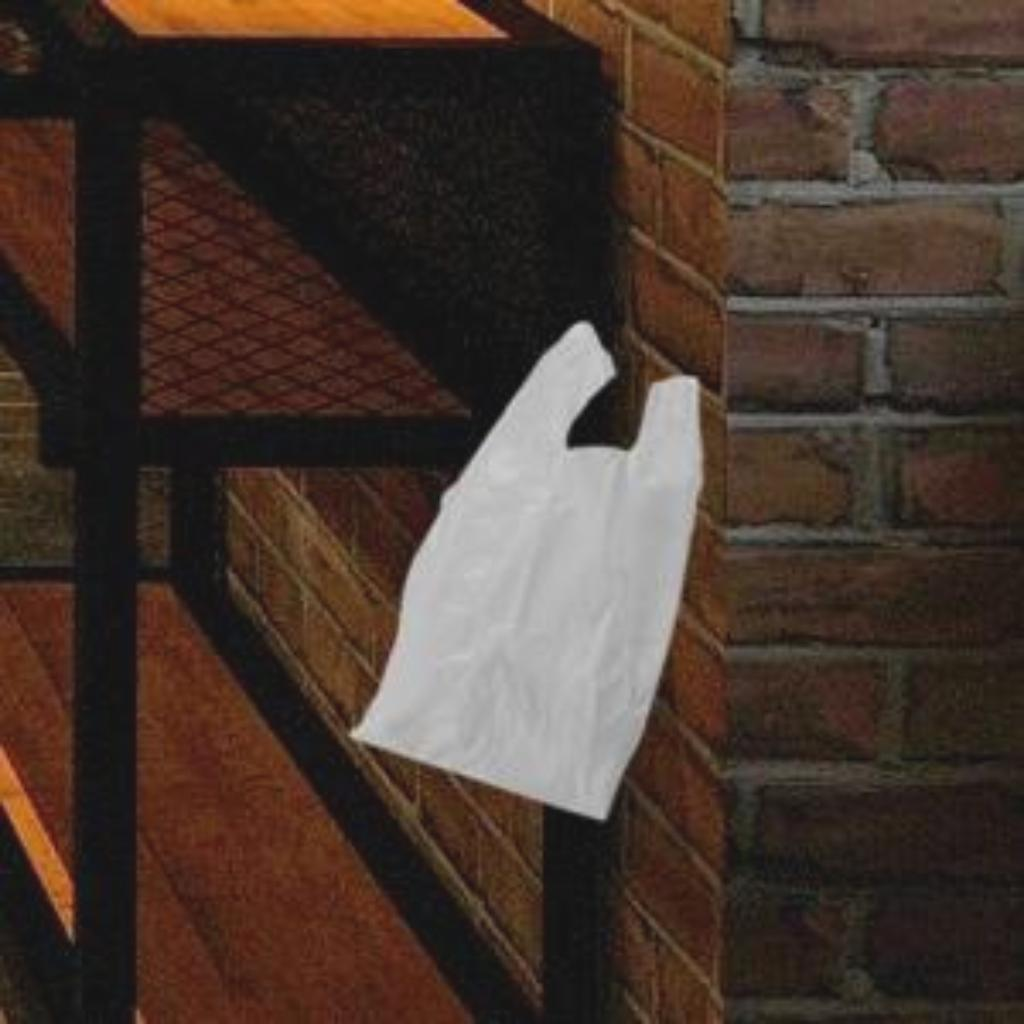garbage: (348, 280, 717, 819)
